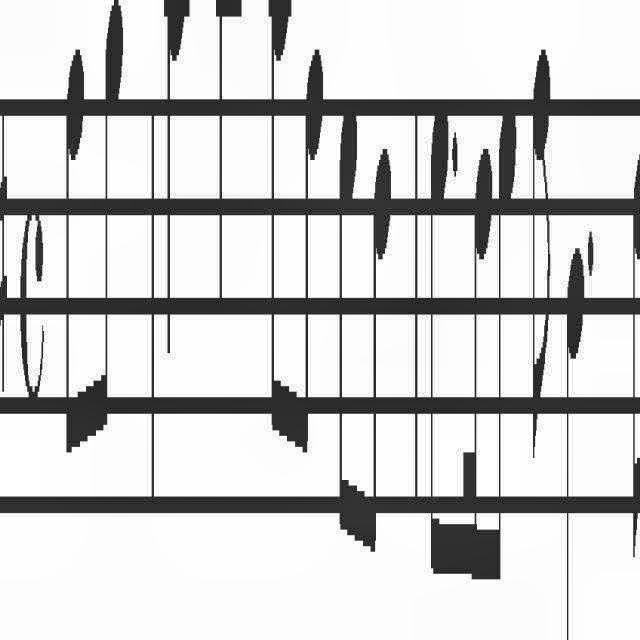Diez: (0, 83, 12, 370)
Eighth-note: (492, 61, 524, 637), (423, 71, 452, 633), (90, 0, 126, 452), (331, 44, 361, 584), (367, 120, 398, 610), (266, 0, 296, 502), (525, 10, 555, 474), (619, 38, 640, 640), (59, 6, 85, 484), (298, 44, 324, 488), (639, 38, 640, 640)
Quarter-note: (207, 0, 245, 386), (162, 0, 190, 448), (562, 226, 584, 640)
Sixteenth-note: (463, 112, 489, 604)
